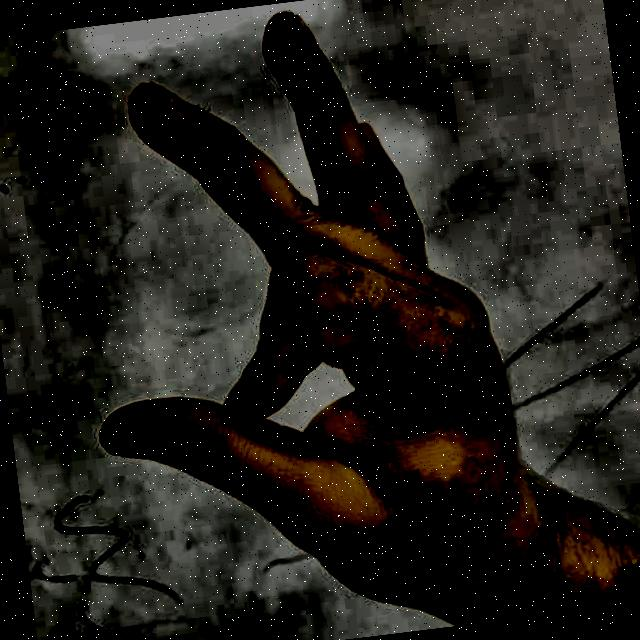Uo: (1, 0, 627, 640)
